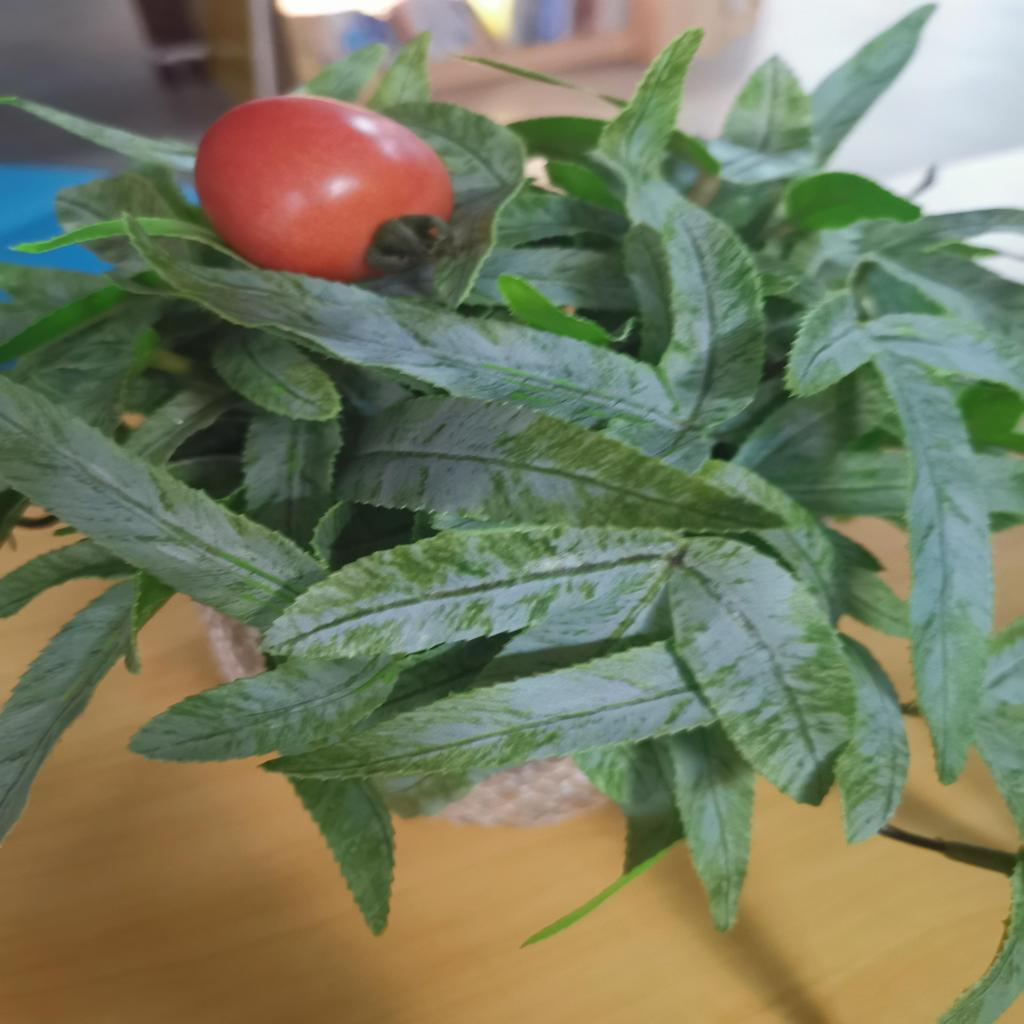tomato: (183, 91, 479, 299)
